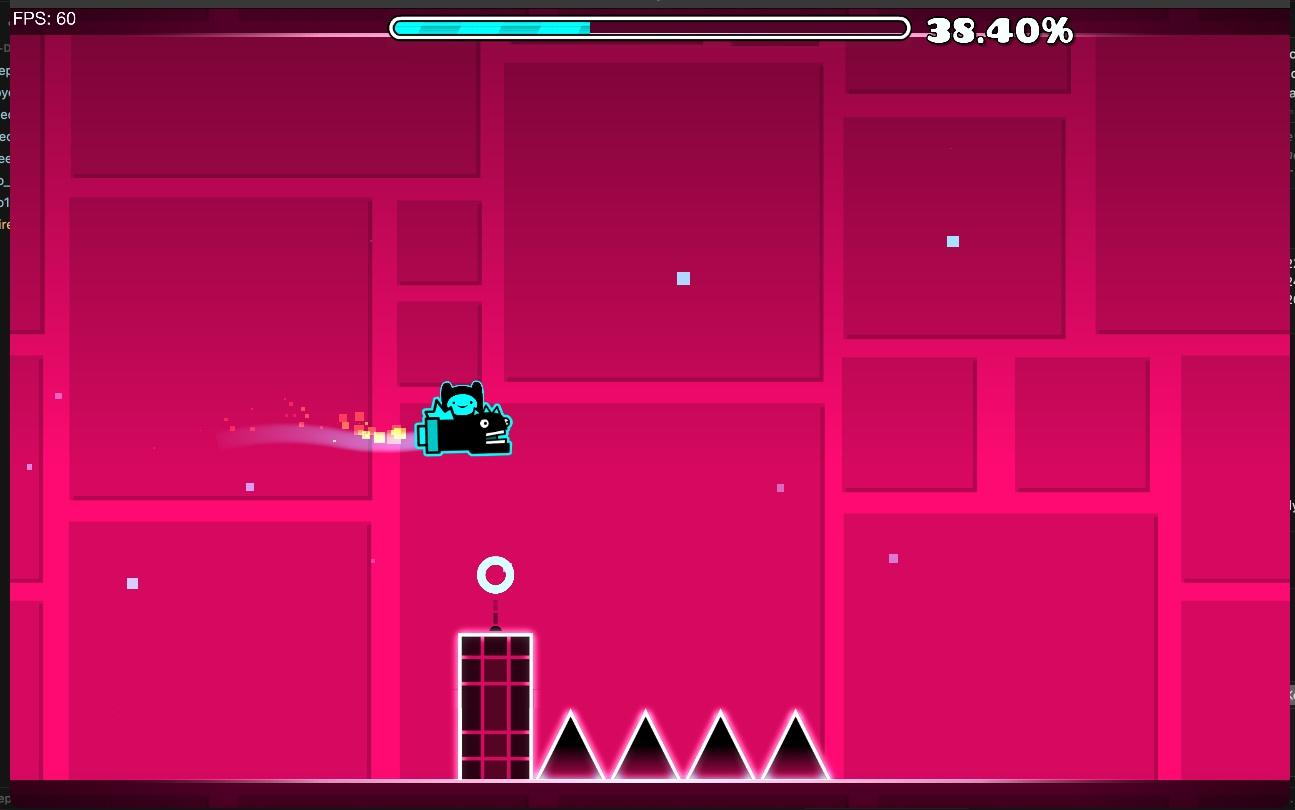block: (457, 631, 532, 777)
spaceship: (416, 381, 510, 455)
spike: (537, 711, 829, 778)
